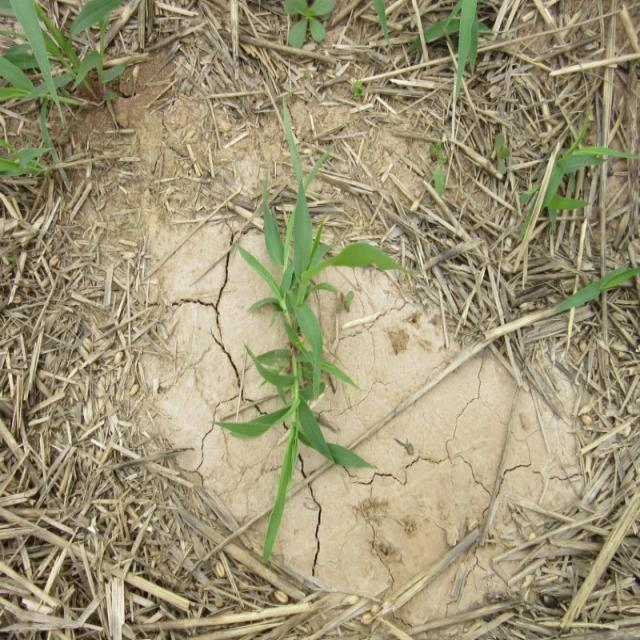bg: (217, 100, 410, 567)
